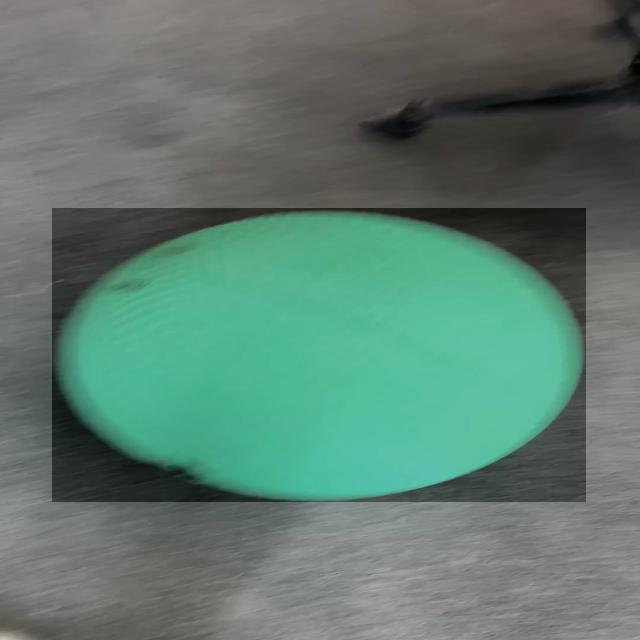Algae: (52, 208, 586, 502)
